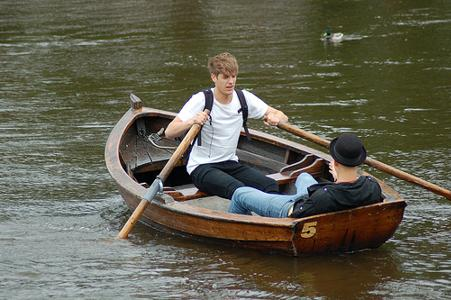person: (163, 50, 288, 199)
